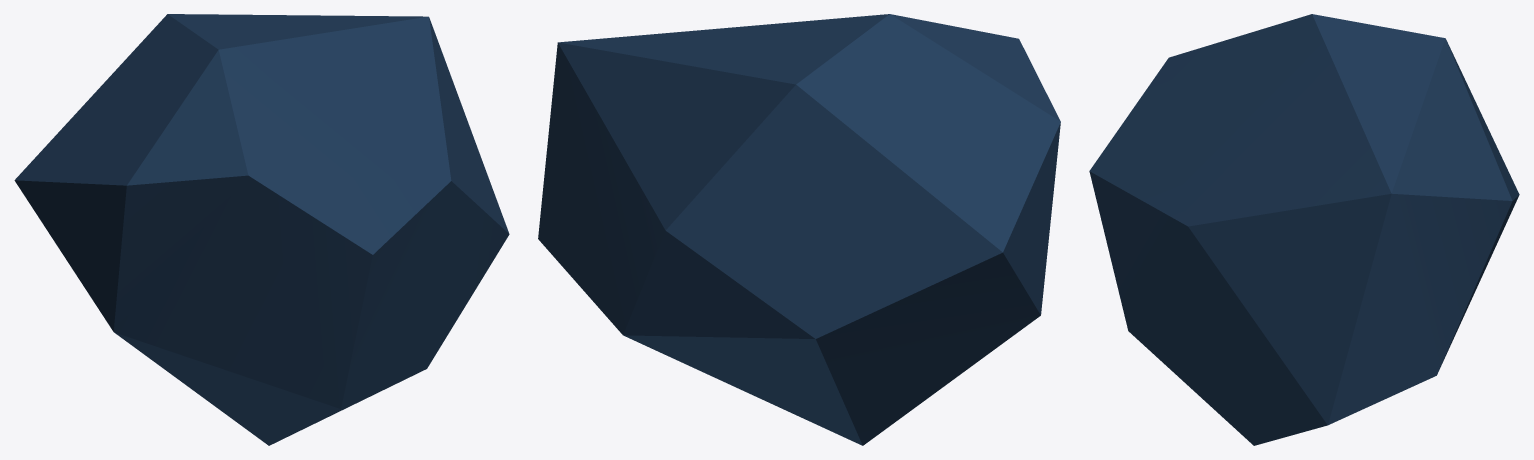
Rendered from 39091_stone_04.fbx.
3 renders of one model, left to right at view 1: azimuth 30°, elevation 25°; view 2: azimuth 150°, elevation 25°; view 3: azimuth 270°, elevation 25°, orthographic. The views are drawn at different scales.
Visible parts, largest first — view 1: 39091_stone_04; view 2: 39091_stone_04; view 3: 39091_stone_04.
Part boxes in pixels (bbox=[...]): 39091_stone_04: bbox=[14, 14, 509, 445]; 39091_stone_04: bbox=[538, 14, 1060, 445]; 39091_stone_04: bbox=[1089, 14, 1519, 445].
Size of the model in its own units: 3.59 by 3.01 by 2.95.
